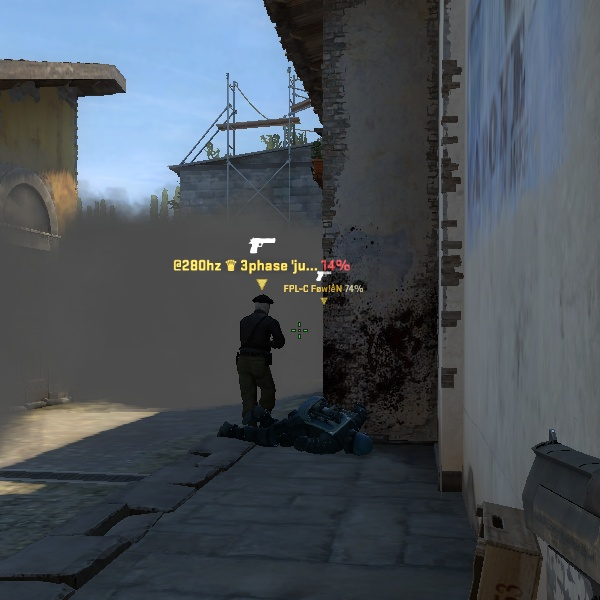t_body: (218, 291, 297, 444)
t_head: (246, 289, 278, 320)
